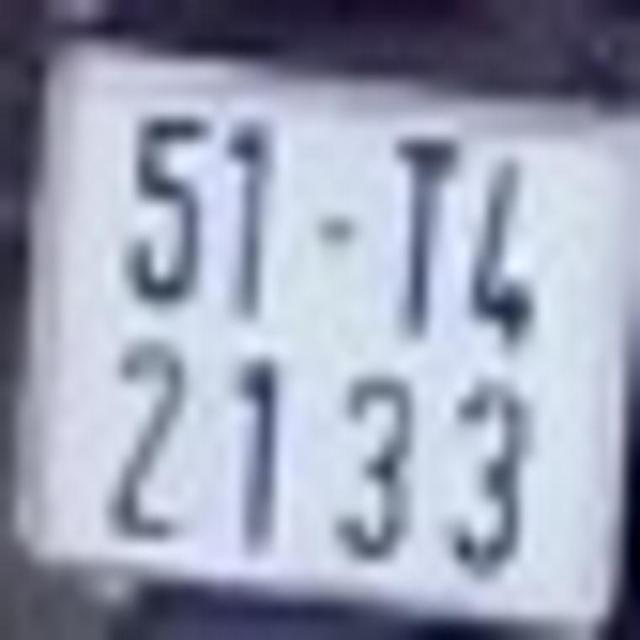1: (220, 340, 290, 551), (224, 114, 270, 316)
2: (113, 328, 193, 547)
3: (327, 354, 422, 568), (443, 366, 525, 568)
4: (466, 141, 539, 354)
5: (124, 109, 214, 306)
T: (384, 121, 459, 344)
